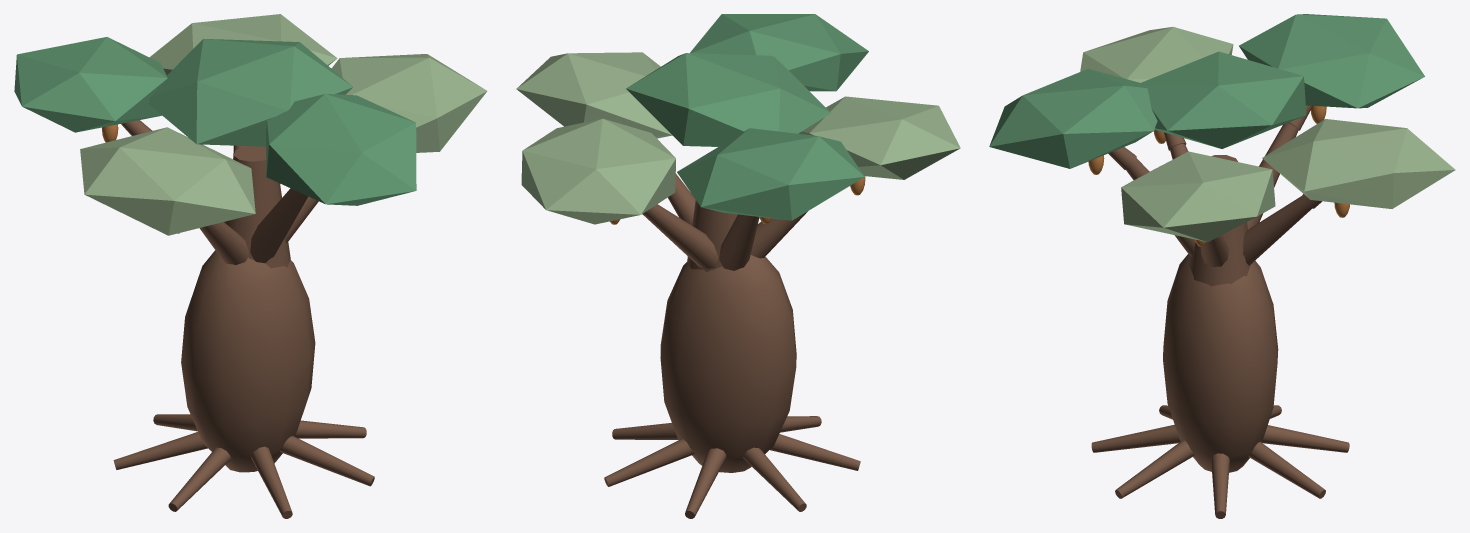
Rendered from baobab-tree.glb.
3 renders of one model, left to right at view 1: azimuth 30°, elevation 25°; view 2: azimuth 150°, elevation 25°; view 3: azimuth 270°, elevation 25°, orthographic. The views are drawn at different scales.
Visible parts, largest first — view 1: Vesper / baobab-tree; view 2: Vesper / baobab-tree; view 3: Vesper / baobab-tree.
Part boxes in pixels (x1,y1,x2,y2): Vesper / baobab-tree: (14, 14, 487, 518); Vesper / baobab-tree: (516, 14, 960, 518); Vesper / baobab-tree: (989, 14, 1455, 518).
Bounding box in the file's own units: 9.76 × 9.44 × 9.83.
